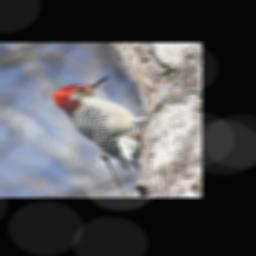Woodpecker: (46, 74, 177, 175)
